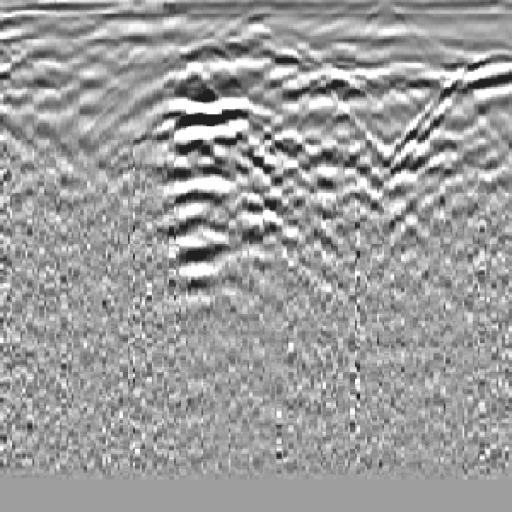metalic: (129, 54, 269, 302)
